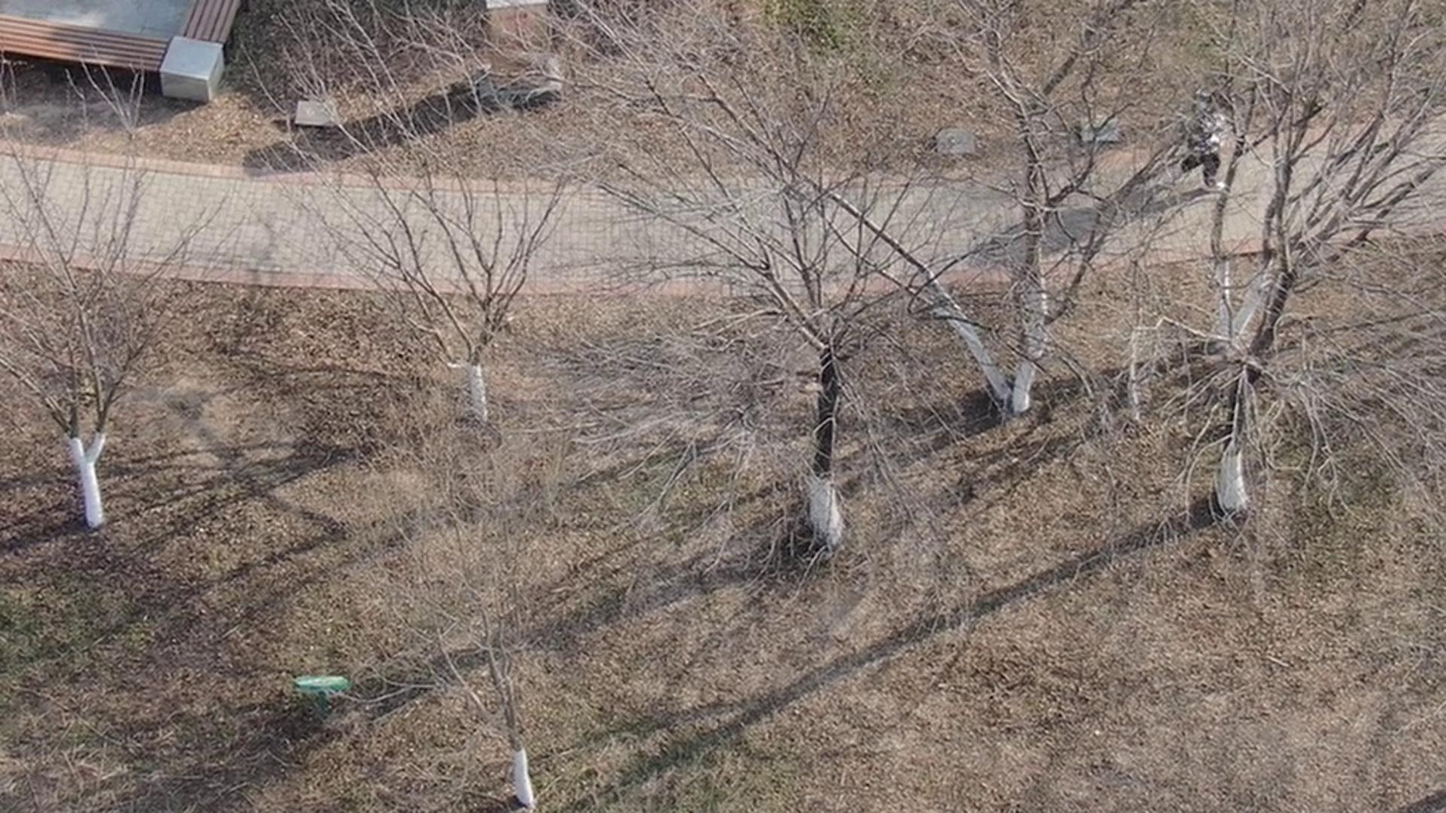human: (1170, 96, 1218, 222)
